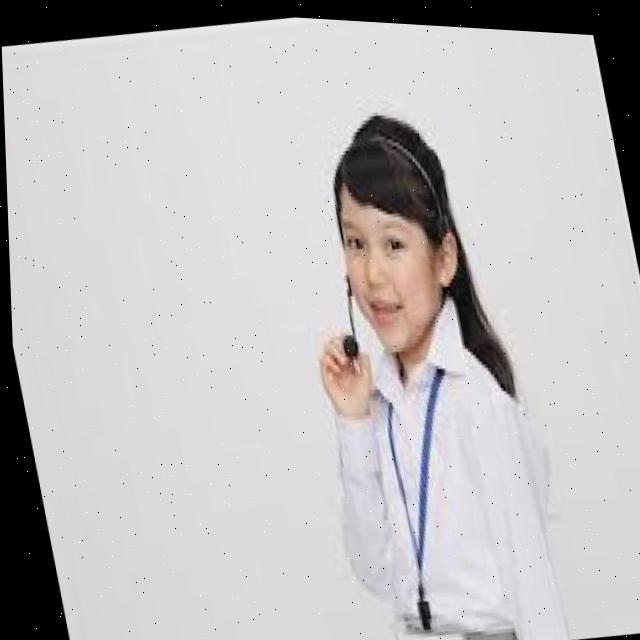id_card: (341, 377, 477, 640)
